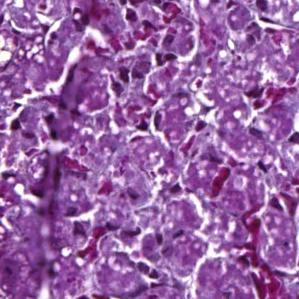inflammation: (107, 56, 148, 101)
